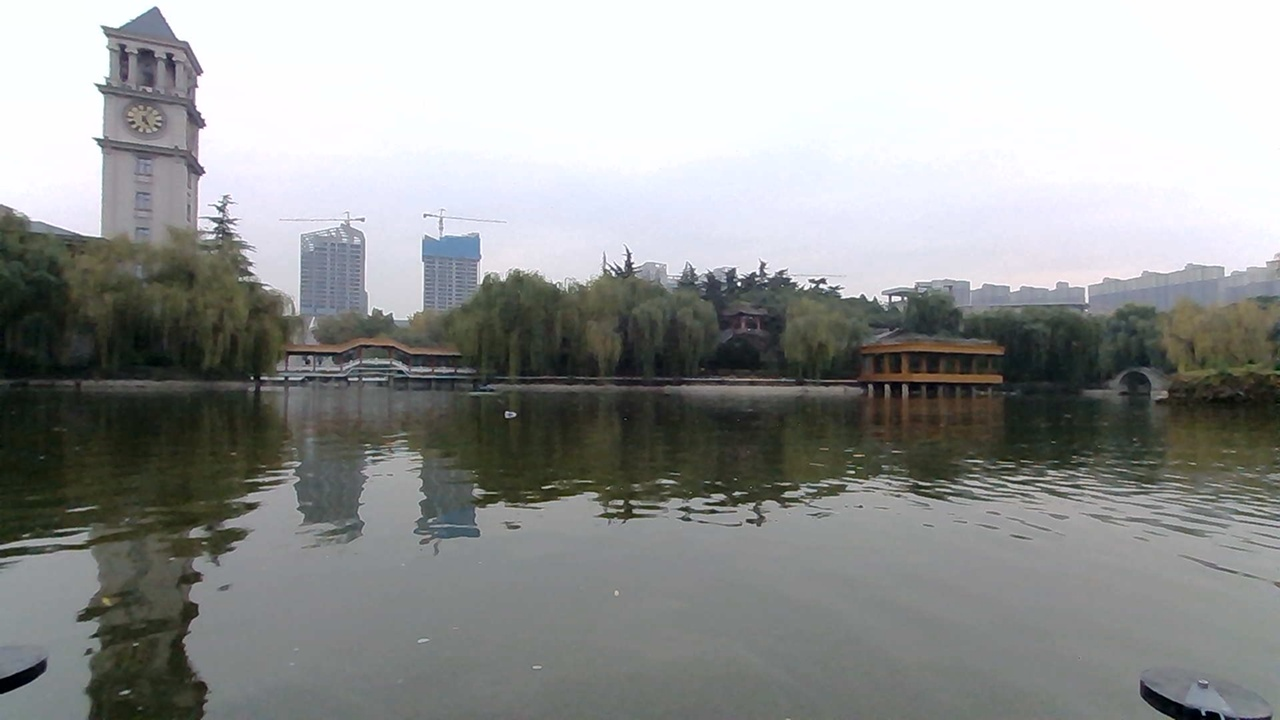bottle: (495, 399, 540, 423)
